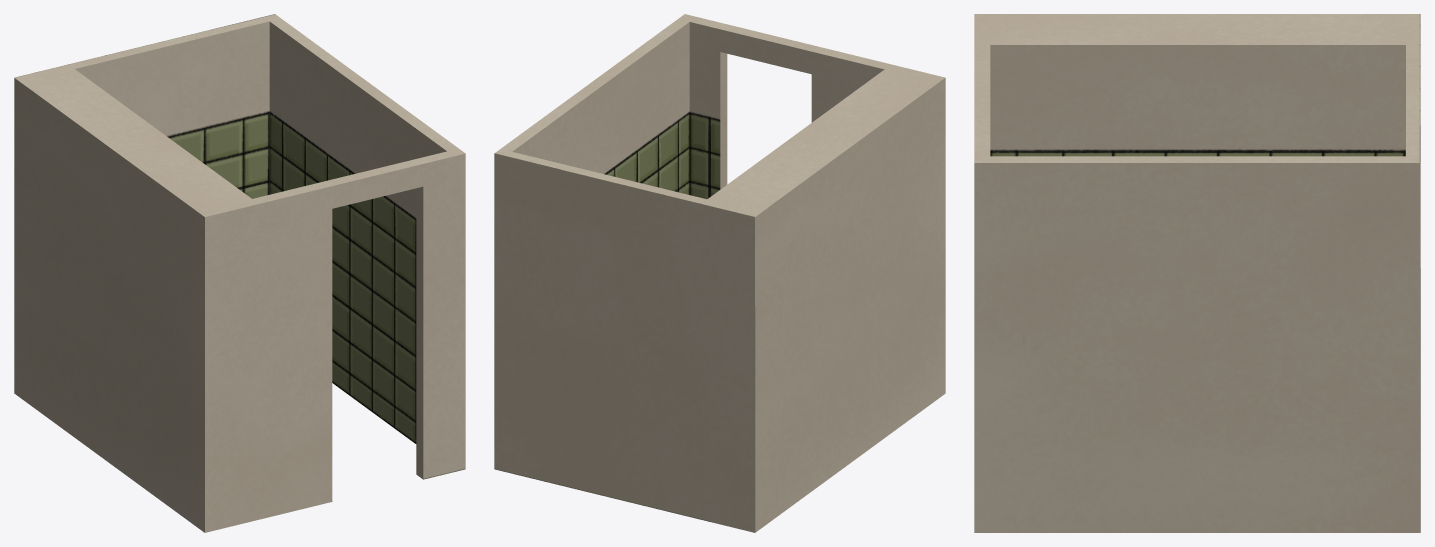
File: bathroom.fbx
3 views of the same model, side by side, from view 1: azimuth 30°, elevation 25°; view 2: azimuth 150°, elevation 25°; view 3: azimuth 270°, elevation 25° (orthographic). The views are drawn at different scales.
Parts seen in each view (by area): view 1: room_watercloset.003; view 2: room_watercloset.003; view 3: room_watercloset.003.
Part boxes in pixels (box(x1,y1,x2,y2)): room_watercloset.003: box(14, 14, 465, 532); room_watercloset.003: box(494, 14, 945, 532); room_watercloset.003: box(974, 14, 1420, 532).
Size of the model in its own units: 3.03 by 3.5 by 3.83.
1 material, 1 textured.
